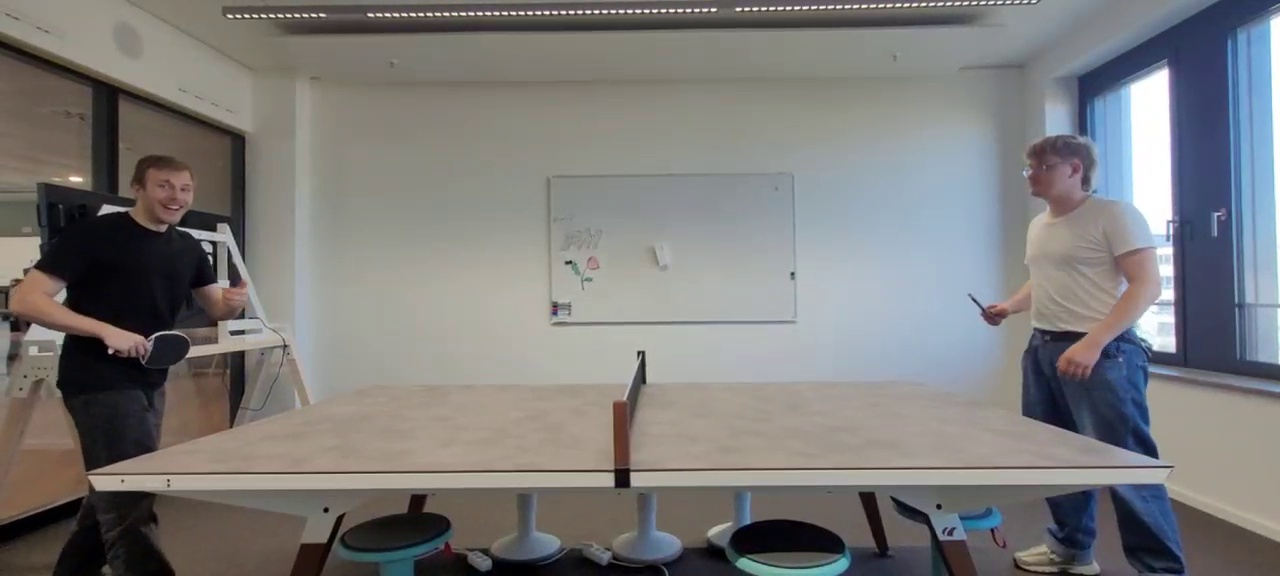plate: (86, 378, 1175, 473)
racket: (139, 331, 191, 369), (967, 293, 998, 323)
ttball: (236, 287, 241, 289)
